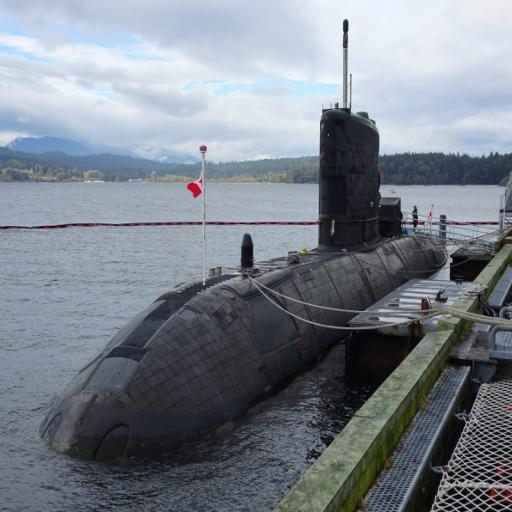submarine: (37, 106, 449, 437)
